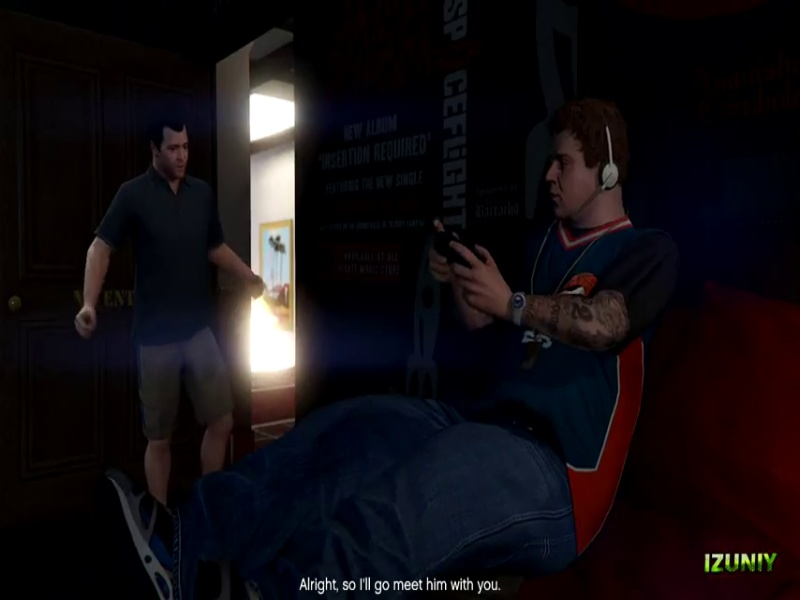human: (86, 128, 243, 512)
